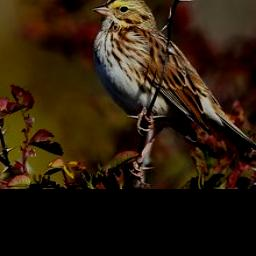Sparrow: (92, 0, 256, 158)
